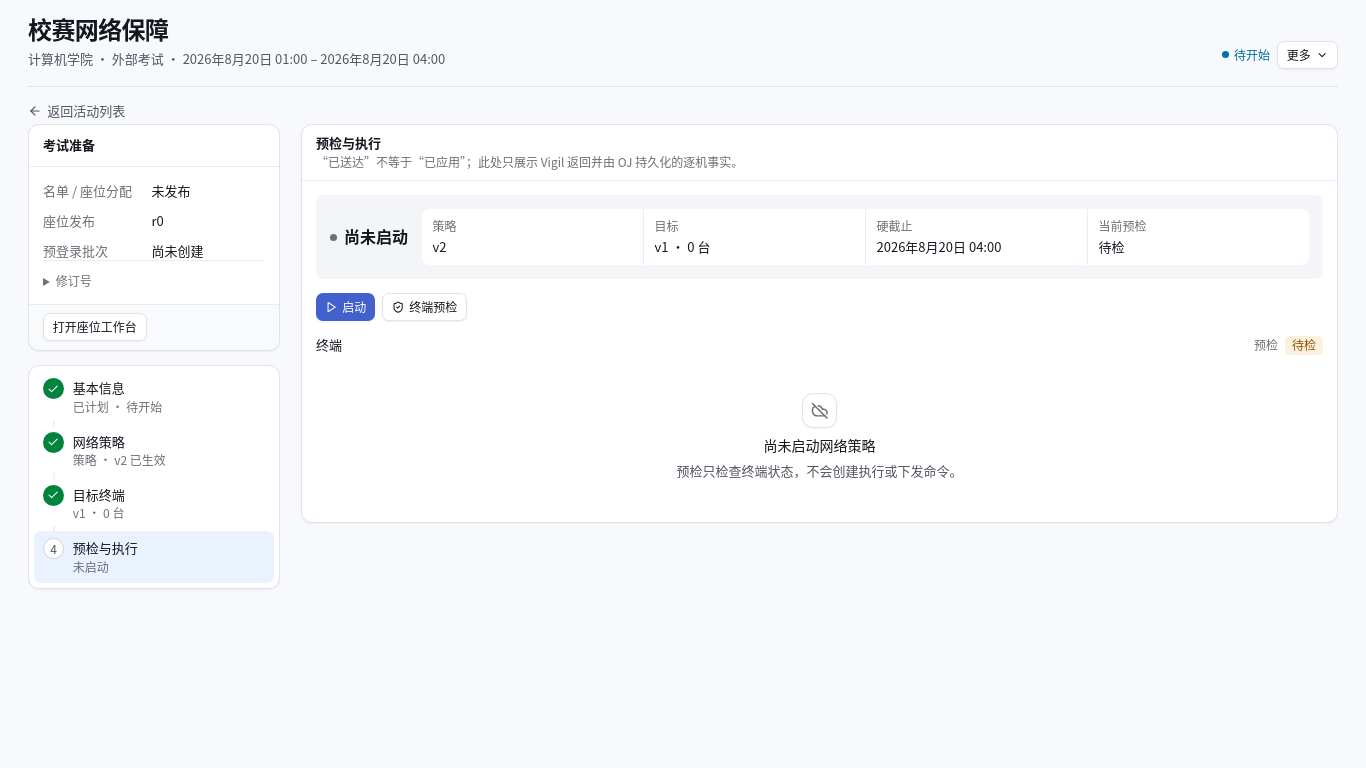
Test: exam event detail shell › 再次加载先换上新标题，学校缺名称先于坏模板报错
The image size is (1366, 768).
Expected: the heading "校赛网络保障" is shown, [28,11,168,46]
Click the button "更多" at (1308, 55), box [1277,41,1338,69]
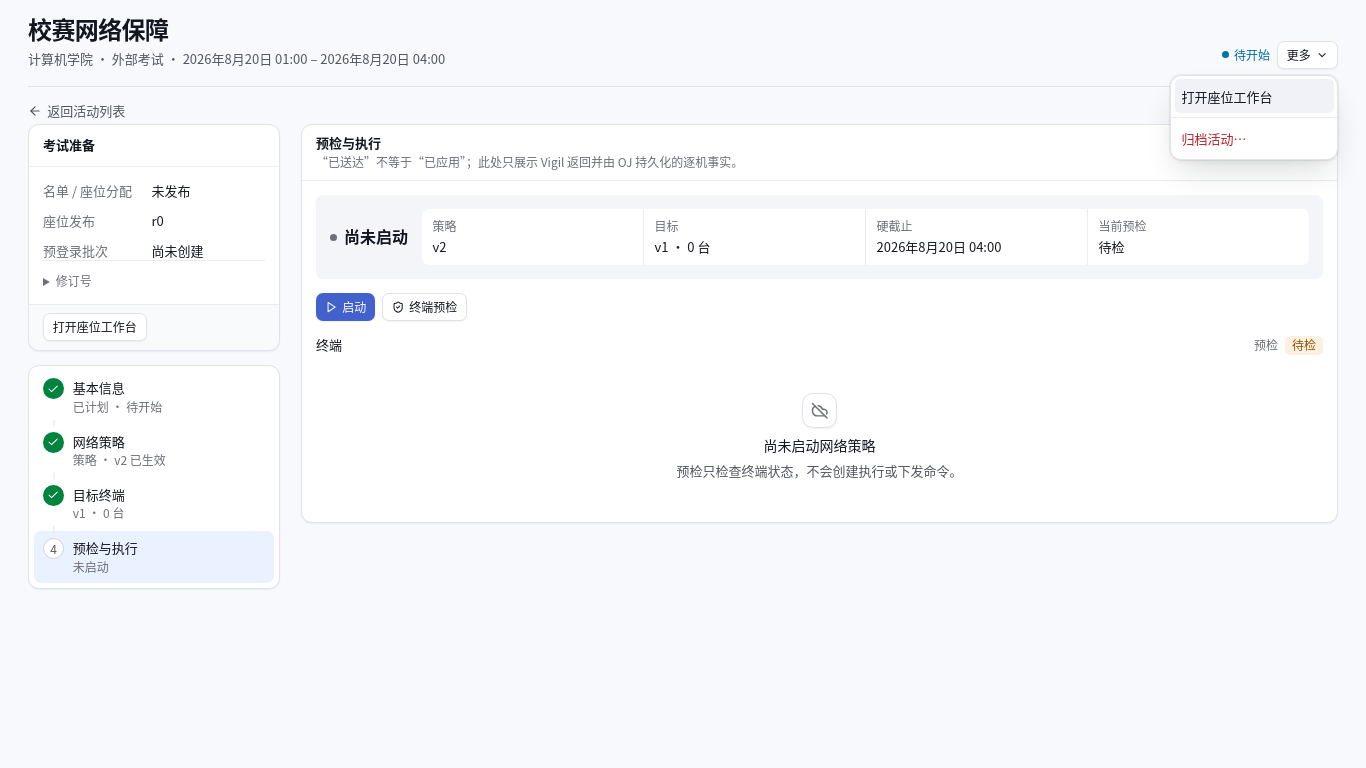
Click the menu item "归档活动…" at (1254, 138), box [1174,121,1334,155]
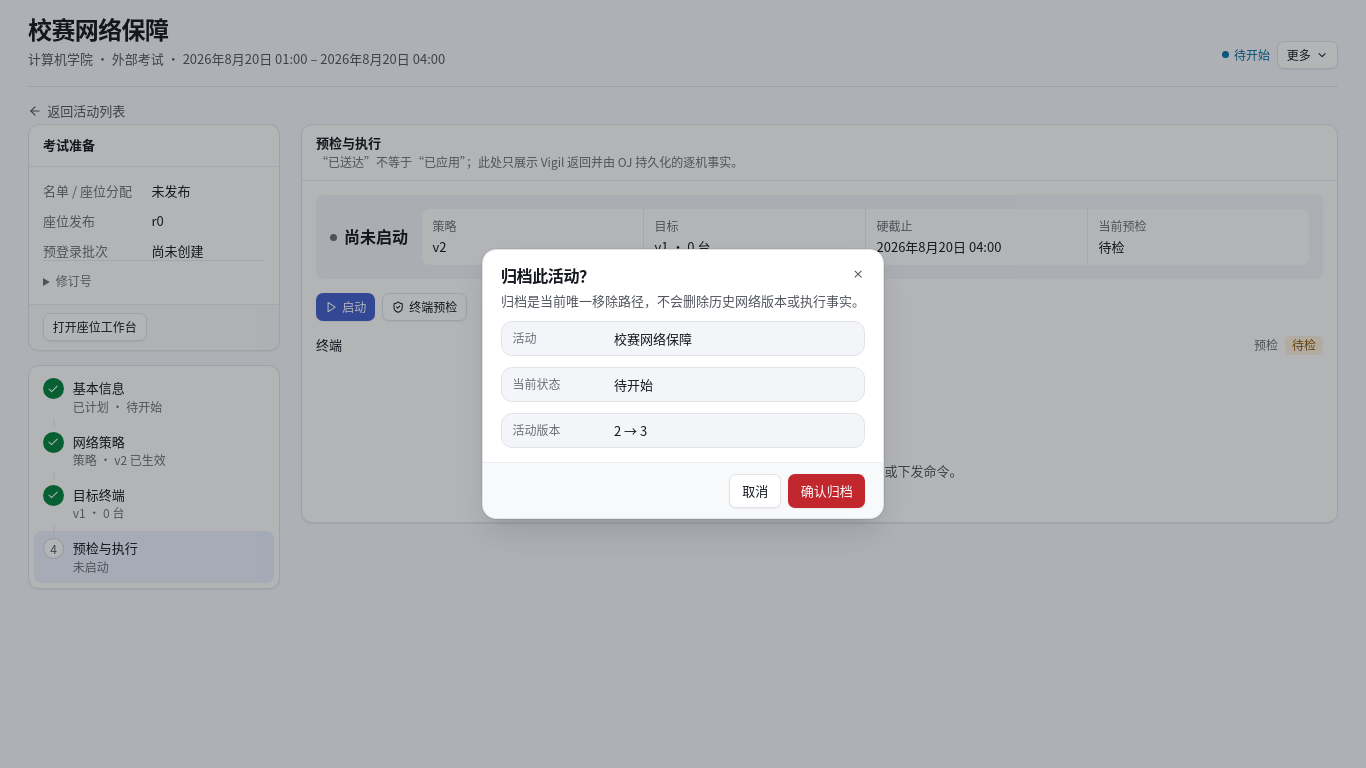
Click the button "确认归档" at (827, 491), box [788,474,865,508]
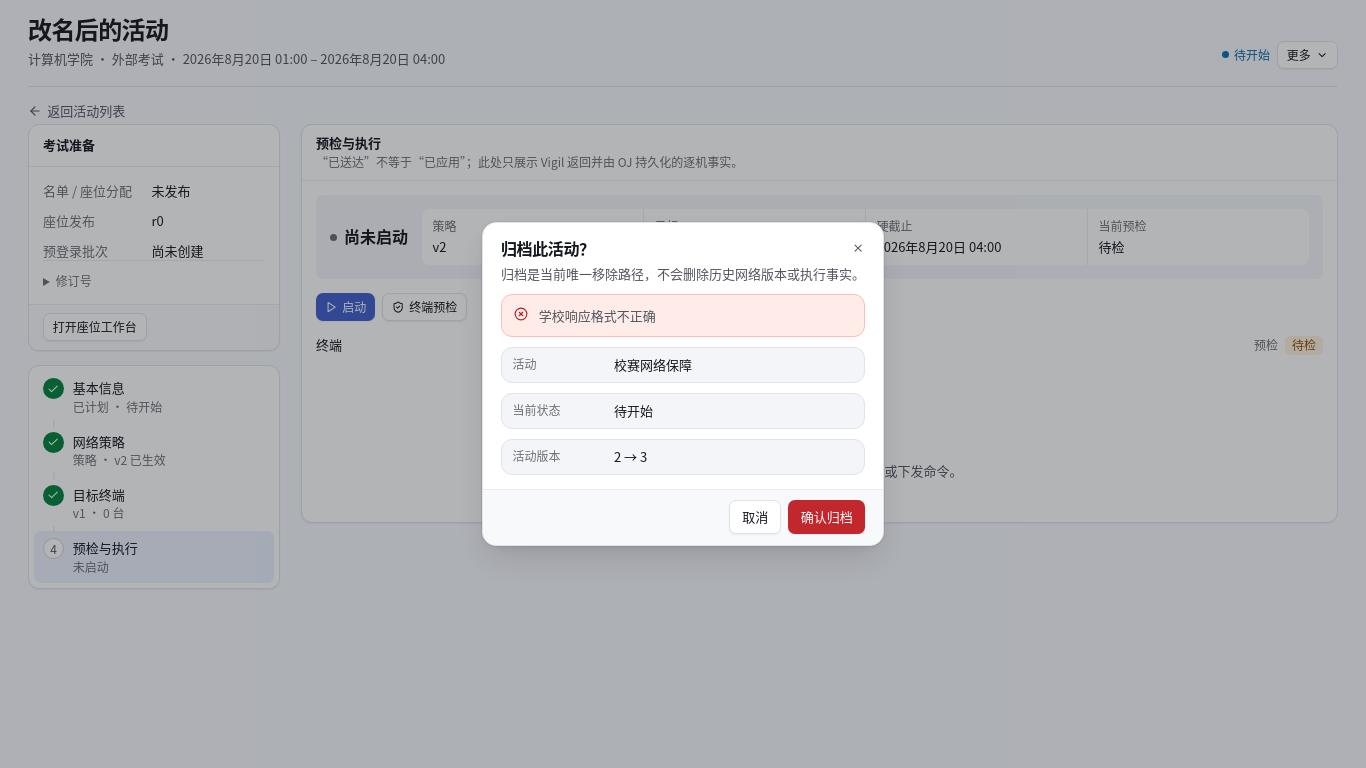
Expected: the message reads "学校响应格式不正确", [539,306,656,325]
Expected: the heading "改名后的活动" is shown, [28,11,168,46]
